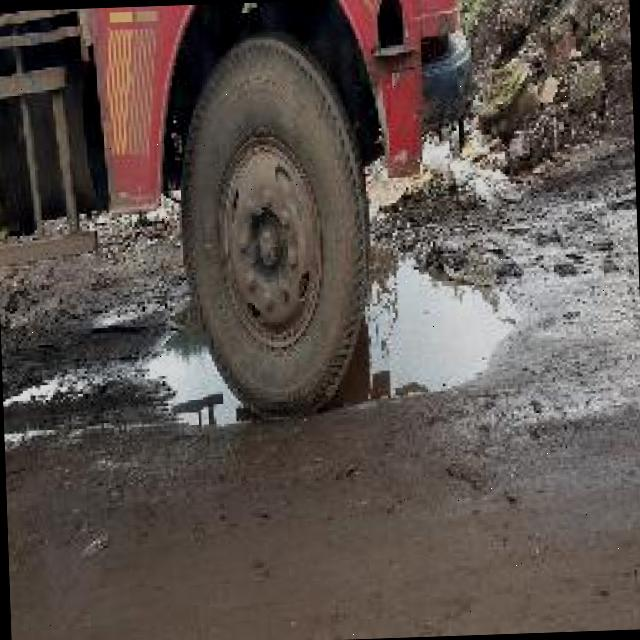waterlogging: (364, 252, 550, 421)
